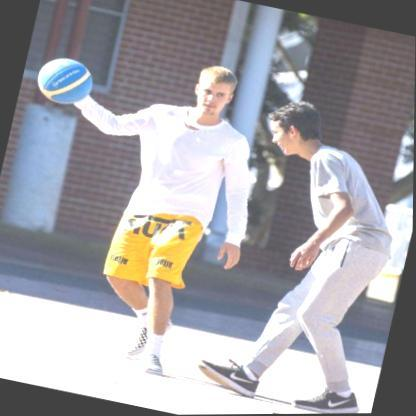basketball: (32, 53, 95, 110)
